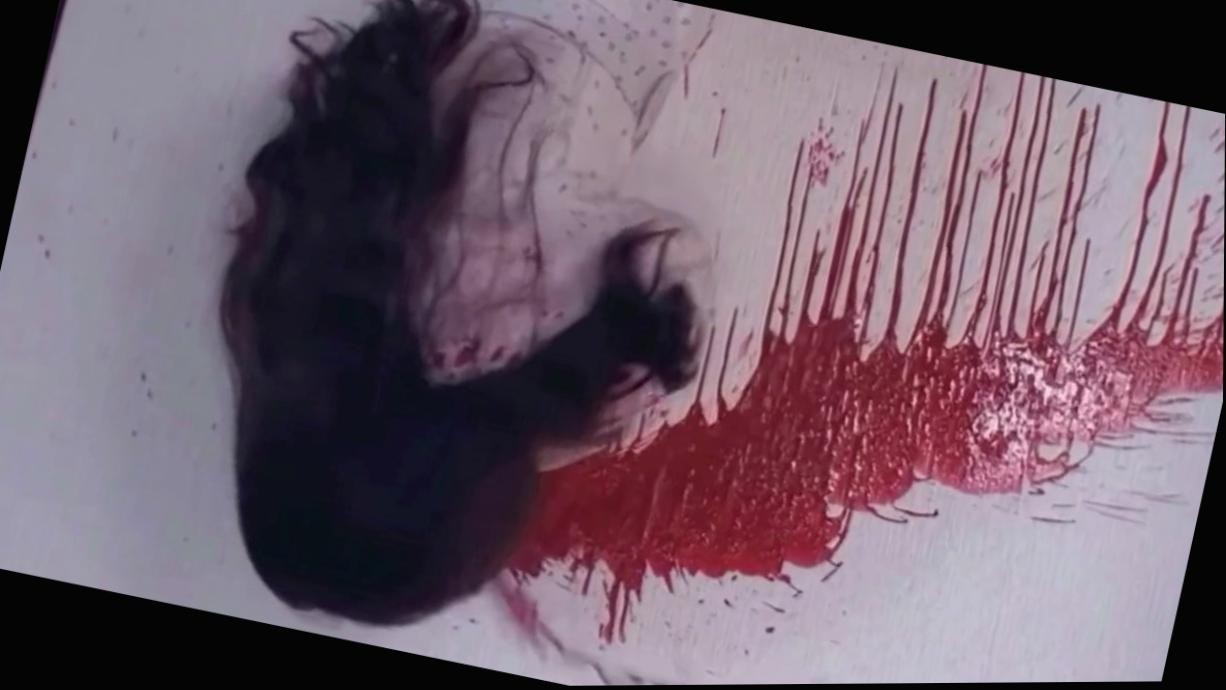Fire: (495, 65, 1224, 677)
